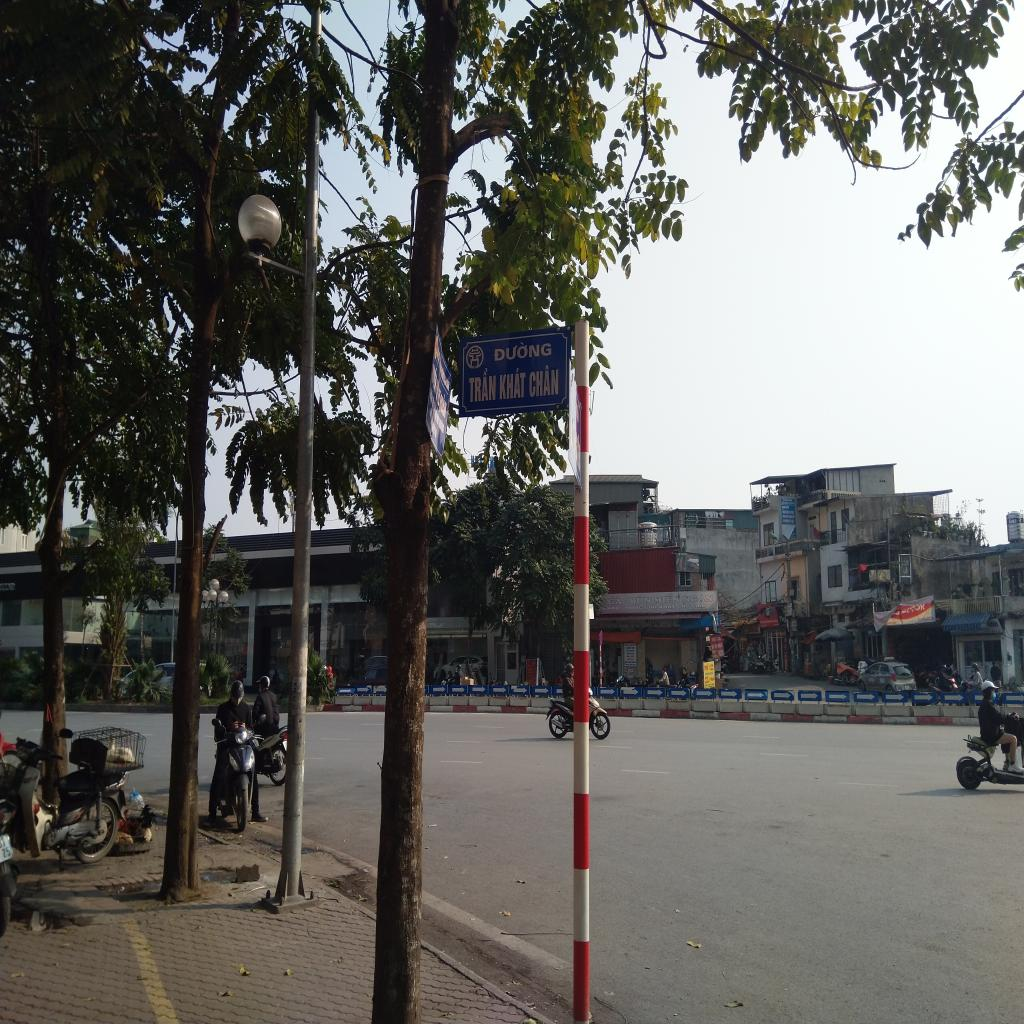text: (491, 338, 553, 362), (466, 366, 498, 406), (528, 365, 560, 398), (498, 366, 526, 401), (654, 592, 682, 606), (630, 594, 652, 606), (2, 844, 14, 864), (608, 596, 622, 606)
